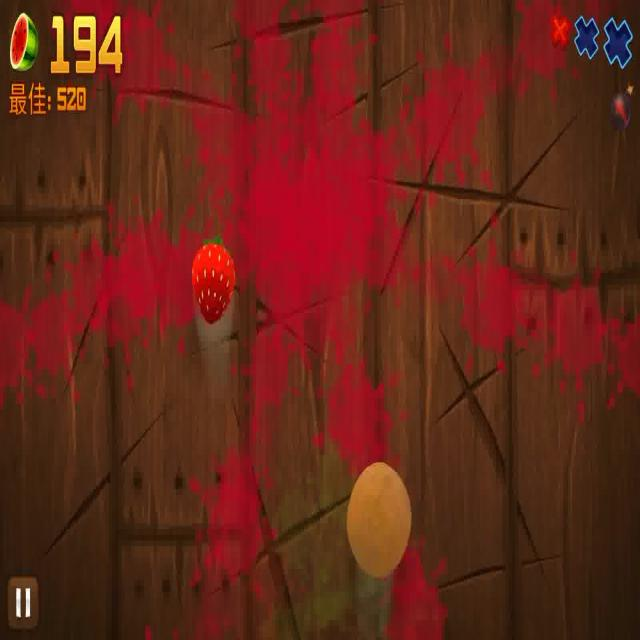fruit: (343, 458, 413, 590), (189, 222, 239, 334)
